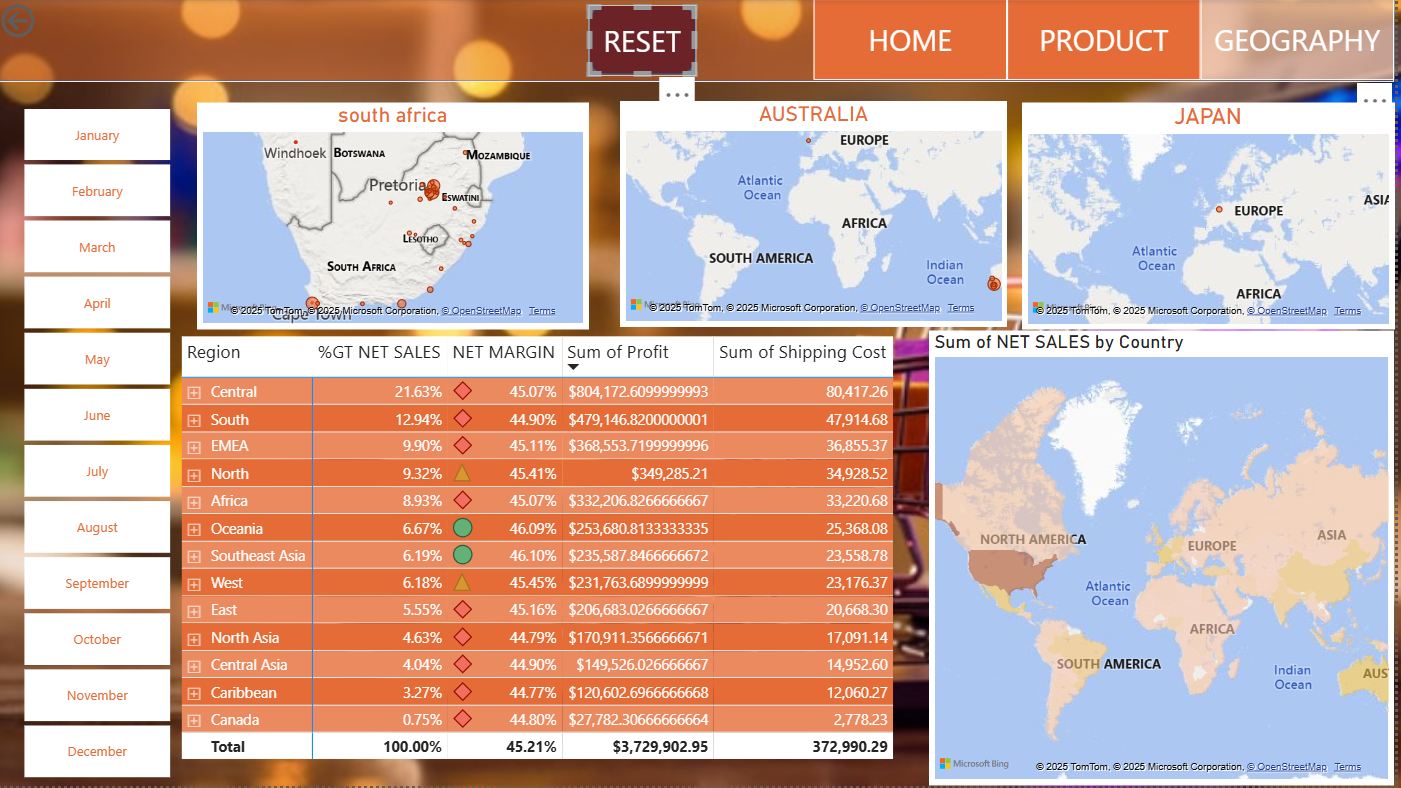

Layout of this report page (visuals, bound fields, positions):
{"tool":"powerbi","page":{"name":"Geography page","canvas":[1280,720],"ordinal":2},"visuals":[{"type":"shape","box":[0,0,1279.5,75.7],"z":0},{"type":"shape","box":[1102.3,0,177.2,74.2],"z":1000},{"type":"shape","box":[748,0,177.2,74.2],"z":2000},{"type":"shape","box":[925.2,0,177.2,74.2],"z":3000},{"type":"shape","box":[542.1,6.1,98.4,63.6],"z":4000},{"type":"slicer","fields":{"Values":["Sales.Order Date.Variation.Date Hierarchy.Month"]},"box":[0,93.9,183.2,625.4],"z":5000},{"type":"pivotTable","fields":{"Values":["key.NET SALES","key.NET MARGIN","Sum(Sales.Profit)","Sum(Sales.Shipping Cost)"],"Rows":["Sales.Region","Sales.Country","Sales.State","Sales.City"]},"box":[165,302.8,689,387.6],"z":6000},{"type":"actionButton","box":[0,0,100,40],"z":7000},{"type":"filledMap","fields":{"Category":["Sales.Country"]},"box":[854,302.8,425.5,387.6],"z":8000},{"type":"map","title":"JAPAN","fields":{"Size":["key.NET SALES"],"Category":["Sales.City"]},"box":[938.7,94.7,340.3,207.2],"z":9000},{"type":"map","title":"south africa ","fields":{"Size":["key.NET SALES"],"Category":["Sales.City"]},"box":[183.9,94.7,358.2,207.2],"z":10000},{"type":"map","title":"AUSTRALIA","fields":{"Size":["key.NET SALES"],"Category":["Sales.City"]},"box":[570.9,93.9,354.3,205.9],"z":11000}]}

Visuals, with their boxes in screenshot pixels (x1, y1, x2, y2), scaled from the page's 1280x720 canvas onto the 1401x788 screenshot:
shape: (0,0,1400,83)
shape: (1207,0,1400,81)
shape: (819,0,1013,81)
shape: (1013,0,1207,81)
shape: (593,7,701,76)
slicer - Sales.Order Date.Variation.Date Hierarchy.Month: (0,103,201,787)
pivotTable - key.NET SALES x key.NET MARGIN: (181,331,935,756)
actionButton: (0,0,109,44)
filledMap - Sales.Country: (935,331,1400,756)
"JAPAN" map: (1027,104,1400,330)
"south africa " map: (201,104,593,330)
"AUSTRALIA" map: (625,103,1013,328)
